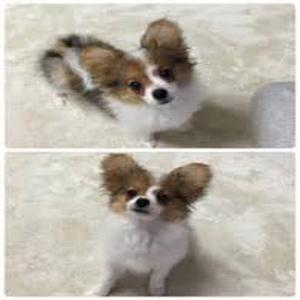yell: (38, 17, 205, 146)
